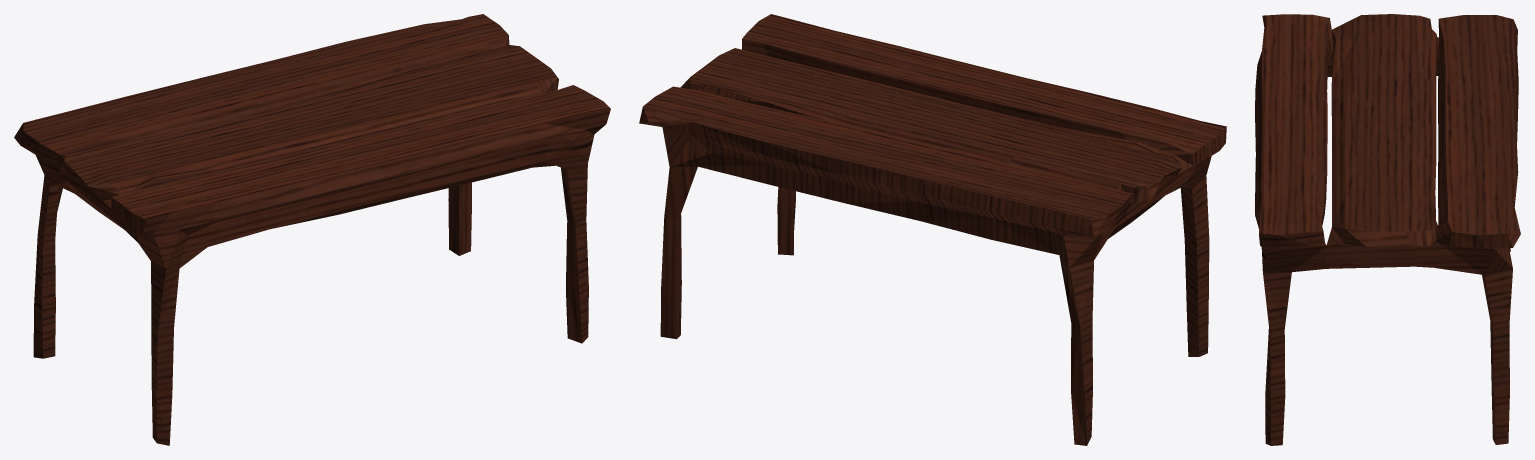
File: table.obj
The picture shows the model from 3 angles, left to right: view 1: azimuth 30°, elevation 25°; view 2: azimuth 150°, elevation 25°; view 3: azimuth 270°, elevation 25°; orthographic projection. The views are drawn at different scales.
Parts seen in each view (by area): view 1: tripo_node_7094226b-07e3-46d2-80a4-60567039208f; view 2: tripo_node_7094226b-07e3-46d2-80a4-60567039208f; view 3: tripo_node_7094226b-07e3-46d2-80a4-60567039208f.
Part boxes in pixels (x1,y1,x2,y2): tripo_node_7094226b-07e3-46d2-80a4-60567039208f: [14, 14, 610, 445]; tripo_node_7094226b-07e3-46d2-80a4-60567039208f: [639, 14, 1226, 445]; tripo_node_7094226b-07e3-46d2-80a4-60567039208f: [1255, 14, 1520, 445].
Bounding box in the file's own units: 0.999 × 0.472 × 0.5052.
